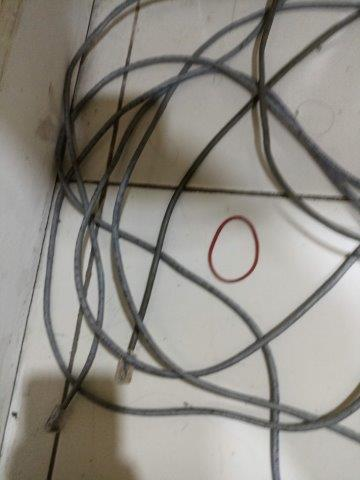karet: (207, 215, 260, 284)
